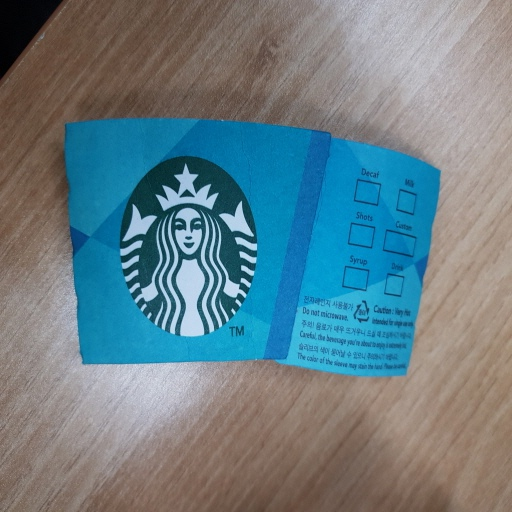Paper_0: (62, 114, 441, 384)
